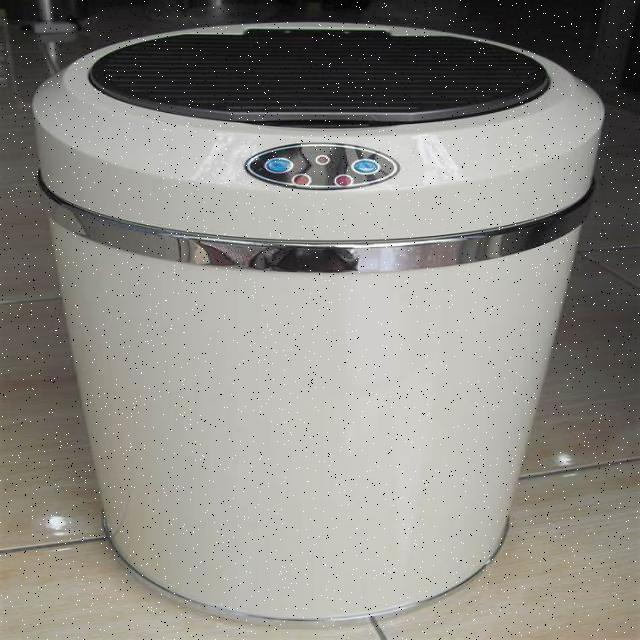garbage container: (26, 19, 640, 630)
